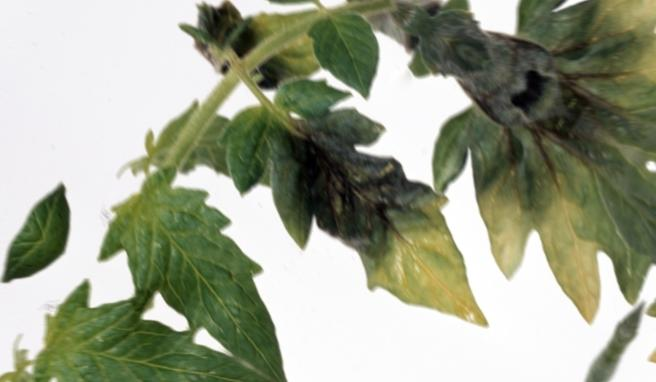Tomato leaf late blight: (191, 56, 554, 364), (53, 126, 373, 382), (394, 62, 656, 345)
